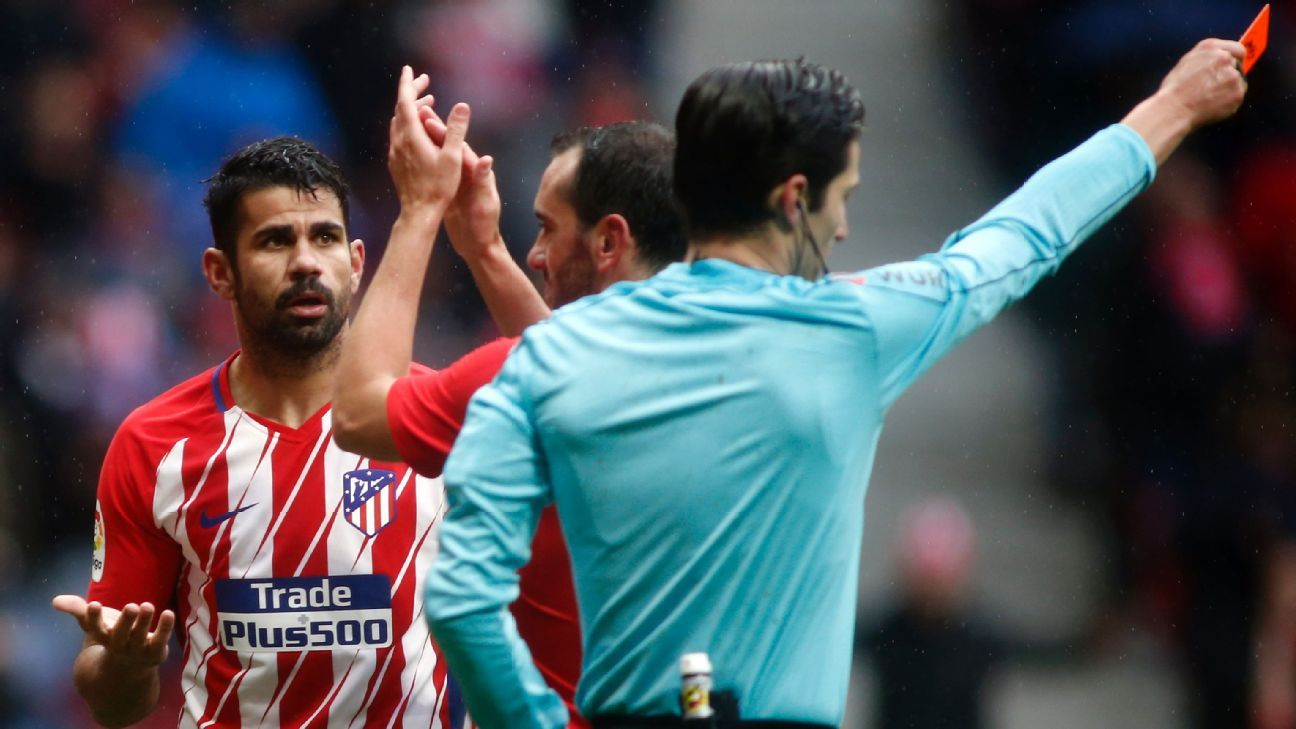red_card: (1147, 5, 1291, 123)
